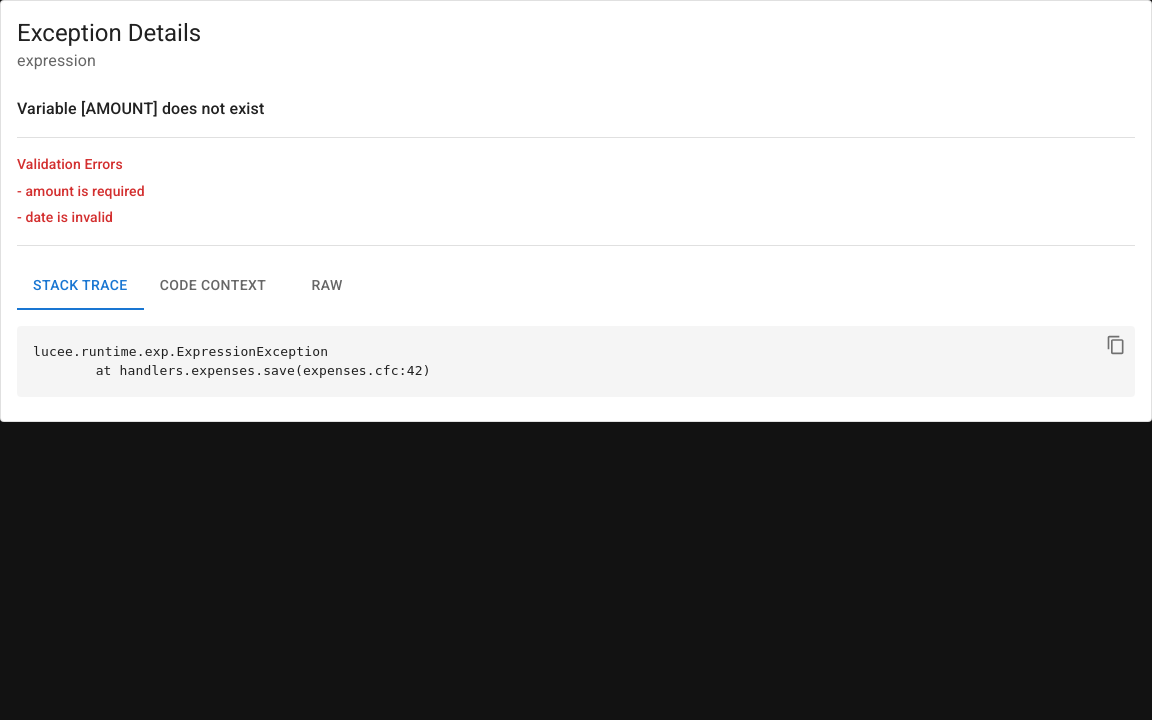
it: <ExceptionDetail /> › Tabs › Should list each template and line in the code context tab
This screenshot has width=1152, height=720.
Click the tab "Code Context" at (213, 286), box [144,262,282,310]
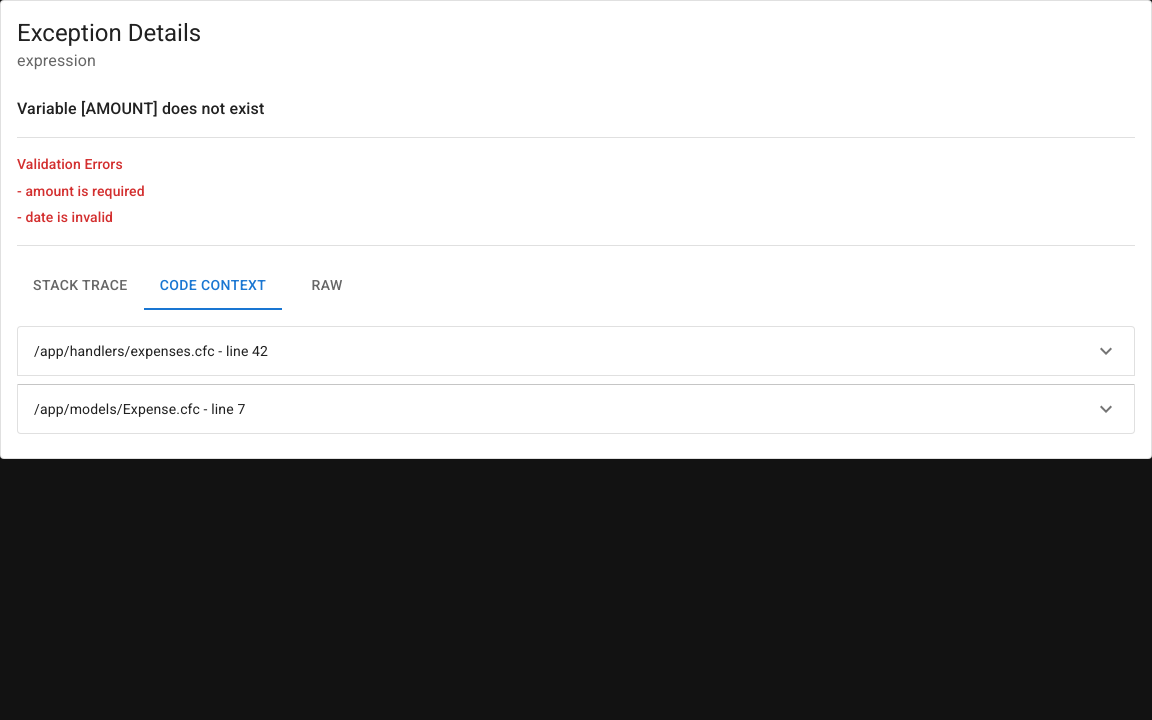
Now the text "at handlers.expenses.save" is gone
Now the button "/app/models/Expense.cfc - line 7" is shown, box [18,385,1134,433]
Click the button "/app/handlers/expenses.cfc - line 42" at (124, 351), box [18,327,1134,375]
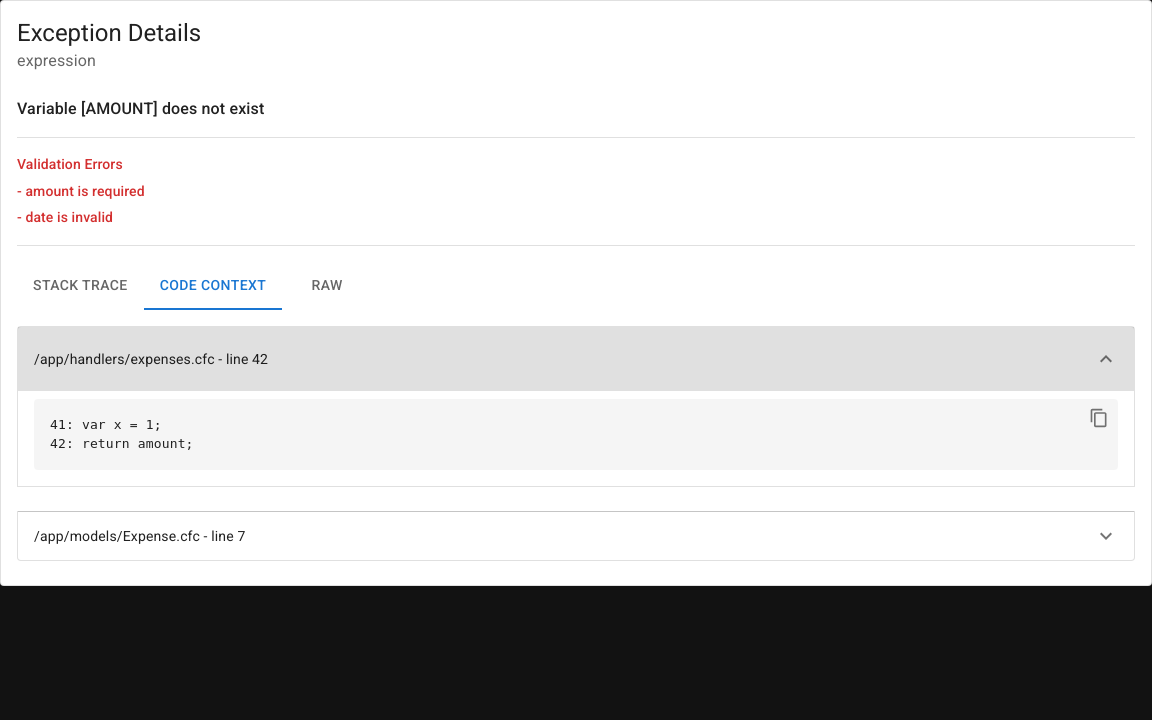
Now the text "41: var x = 1; 42: return amount;" is shown, box [34,399,1118,470]
